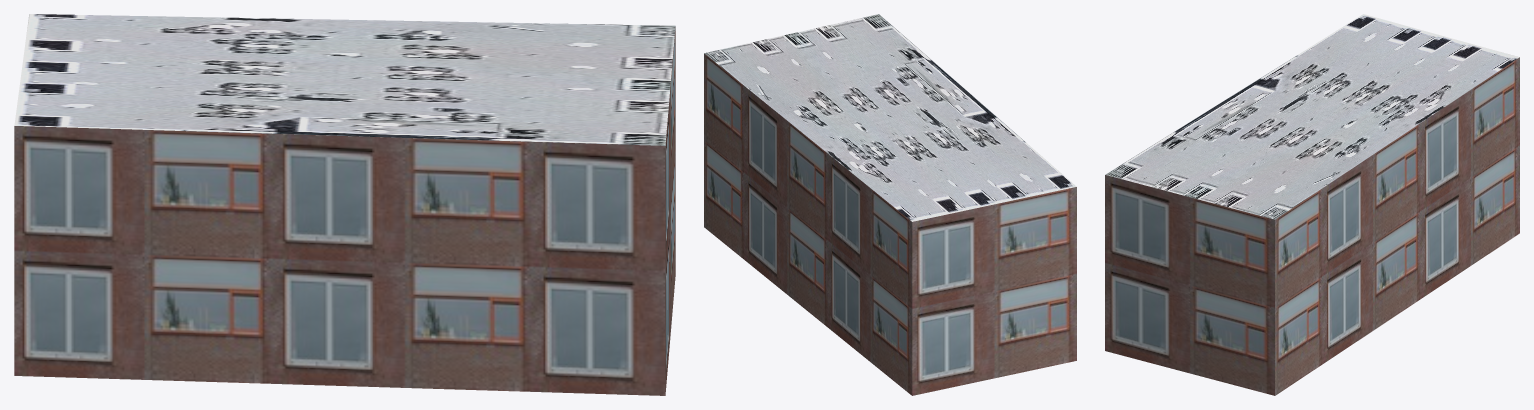
File: ResTex__4547.fbx
3 views of the same model, side by side, from view 1: azimuth 30°, elevation 25°; view 2: azimuth 150°, elevation 25°; view 3: azimuth 270°, elevation 25° (orthographic). The views are drawn at different scales.
Parts seen in each view (by area): view 1: CityEngineMaterial_19_m, CityEngineMaterial_15_m; view 2: CityEngineMaterial_19_m, CityEngineMaterial_15_m; view 3: CityEngineMaterial_19_m, CityEngineMaterial_15_m.
Part boxes in pixels (bbox=[...]): CityEngineMaterial_19_m: bbox=[14, 27, 675, 395]; CityEngineMaterial_15_m: bbox=[14, 14, 675, 145]; CityEngineMaterial_19_m: bbox=[704, 53, 1076, 395]; CityEngineMaterial_15_m: bbox=[704, 14, 1076, 221]; CityEngineMaterial_19_m: bbox=[1105, 57, 1519, 395]; CityEngineMaterial_15_m: bbox=[1105, 14, 1519, 219].
Bounding box in the file's own units: 15.03 × 6 × 12.8.
2 materials, 2 textured.
